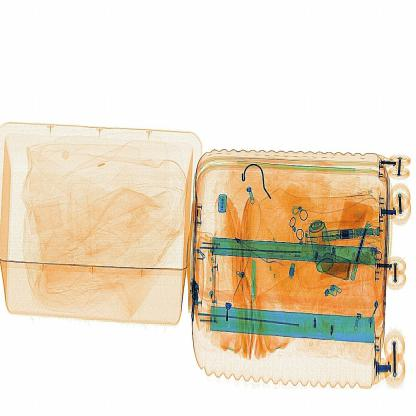pliers: (245, 249, 266, 320)
